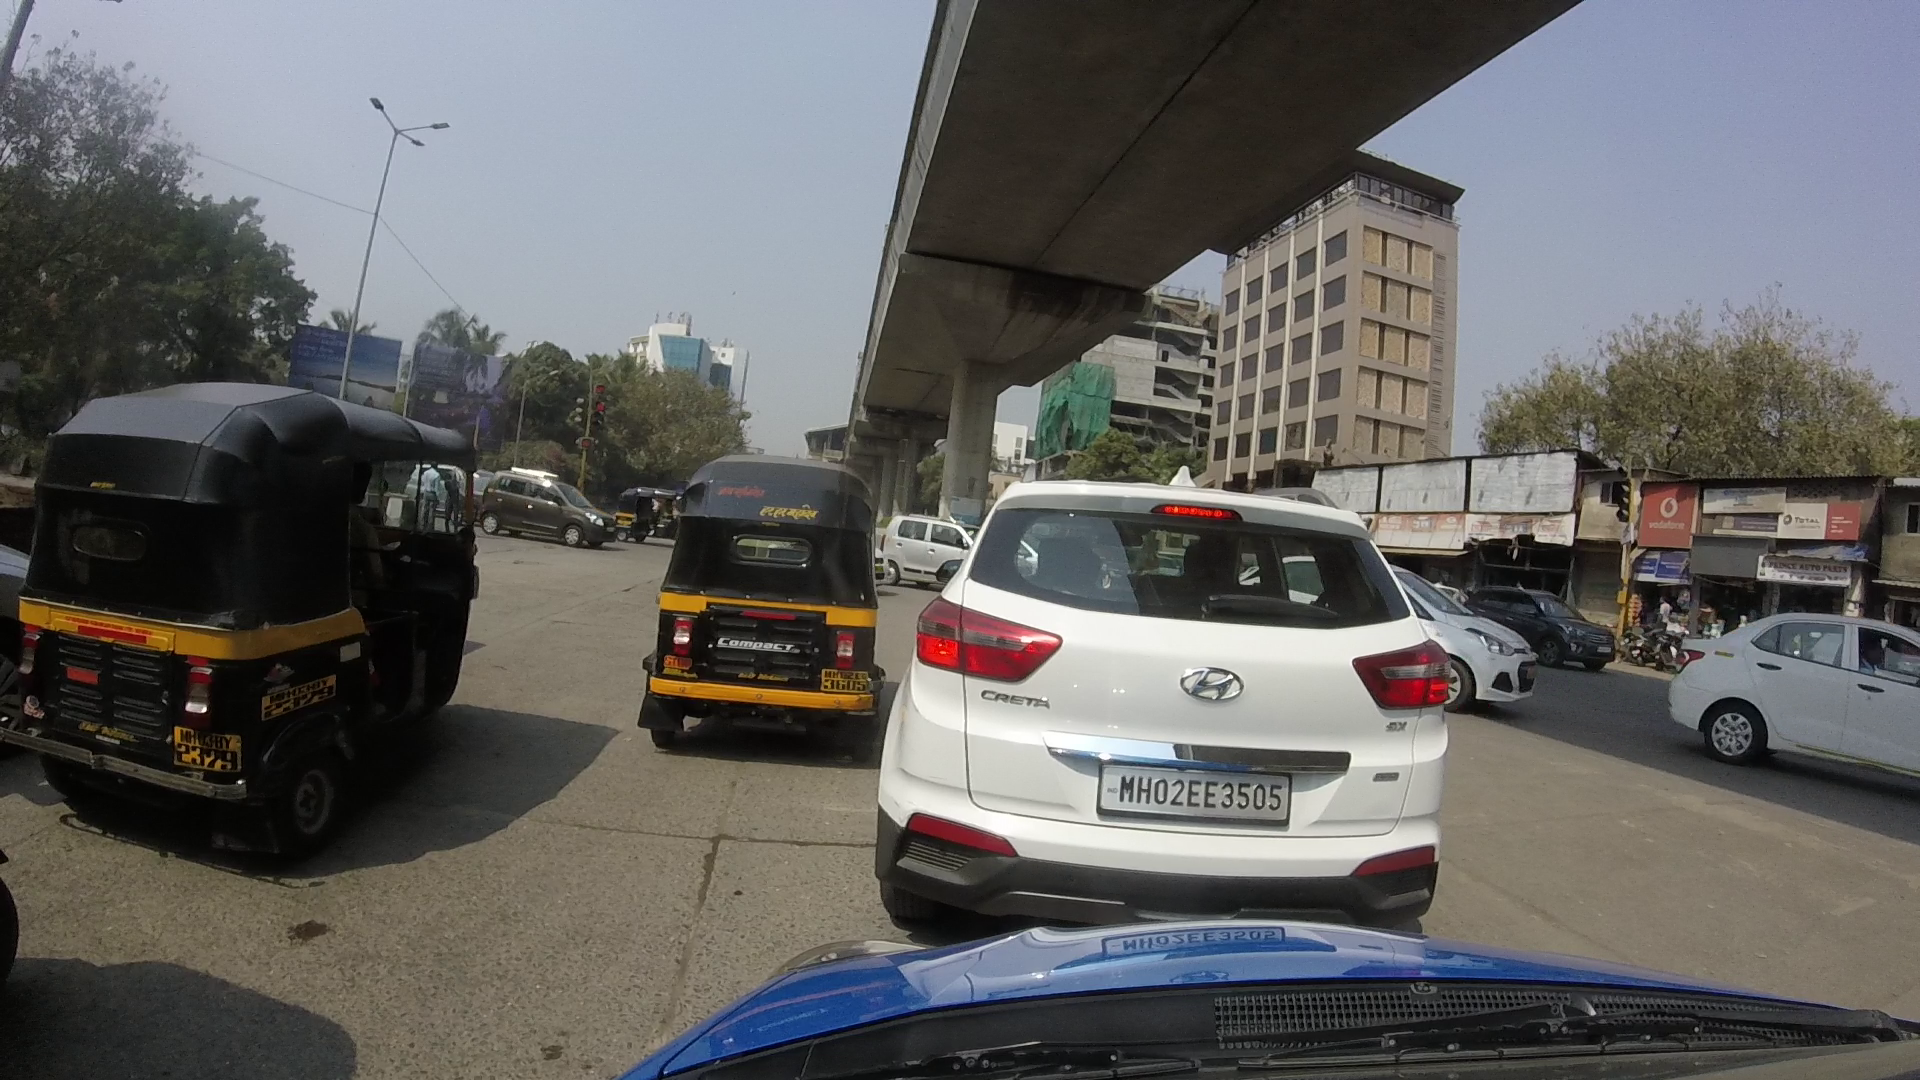car: (887, 483, 1449, 922), (1681, 597, 1920, 781), (1393, 560, 1538, 707), (484, 465, 611, 556), (884, 516, 978, 597)
rickshaw: (40, 380, 477, 860), (644, 444, 884, 760)
